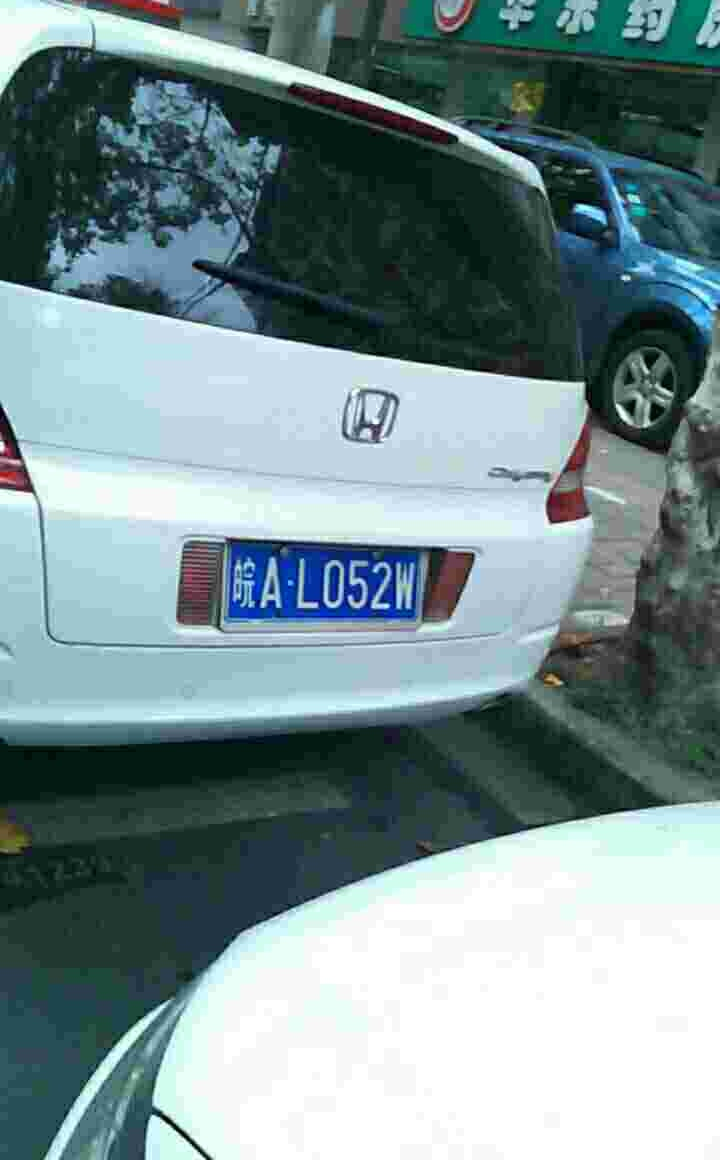license_plate: (226, 540, 432, 627)
